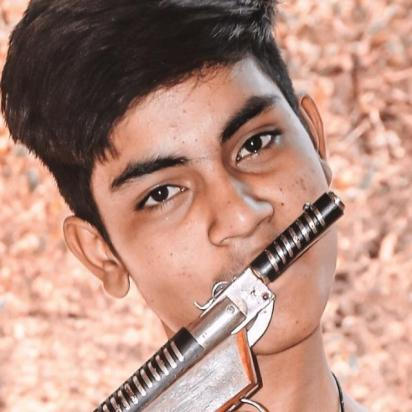Gun: (87, 186, 354, 412)
